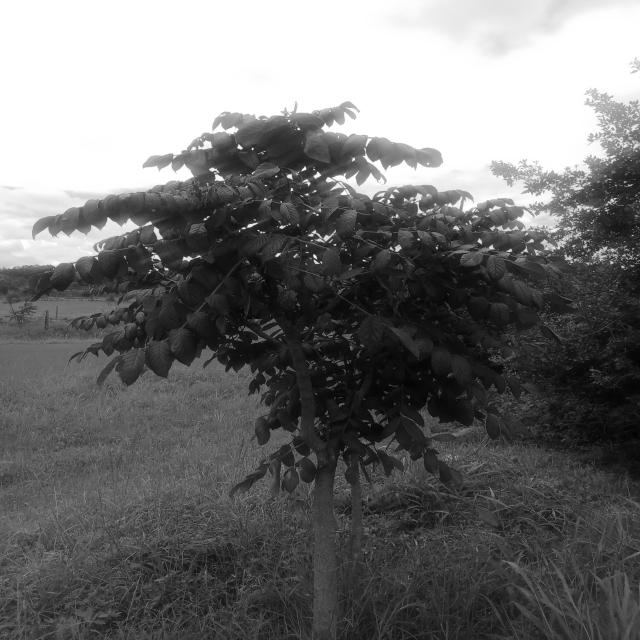Polyscias Kikuyensis: (33, 90, 586, 626)
